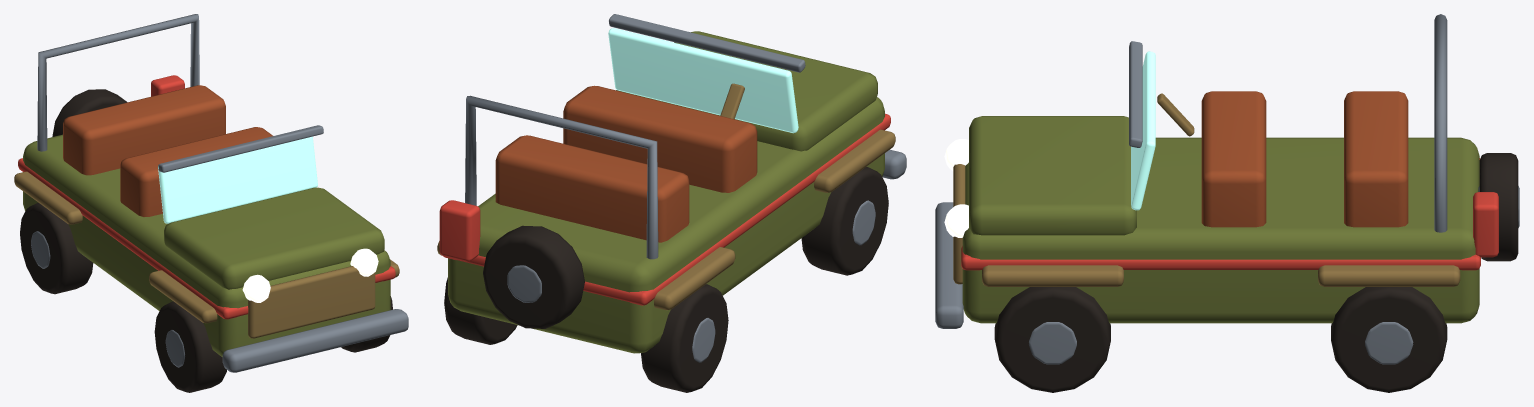
The model's file is jungle_jeep.glb.
3 views of the same model, side by side, from view 1: azimuth 30°, elevation 25°; view 2: azimuth 150°, elevation 25°; view 3: azimuth 270°, elevation 25° (orthographic). The views are drawn at different scales.
Parts seen in each view (by area): view 1: Jeep; view 2: Jeep; view 3: Jeep.
Part boxes in pixels (left/top/right/bottom): Jeep: left=14, top=14, right=408, bottom=392; Jeep: left=437, top=14, right=906, bottom=392; Jeep: left=935, top=14, right=1519, bottom=392.
Size of the model in its own units: 2.22 by 2.34 by 4.52.
